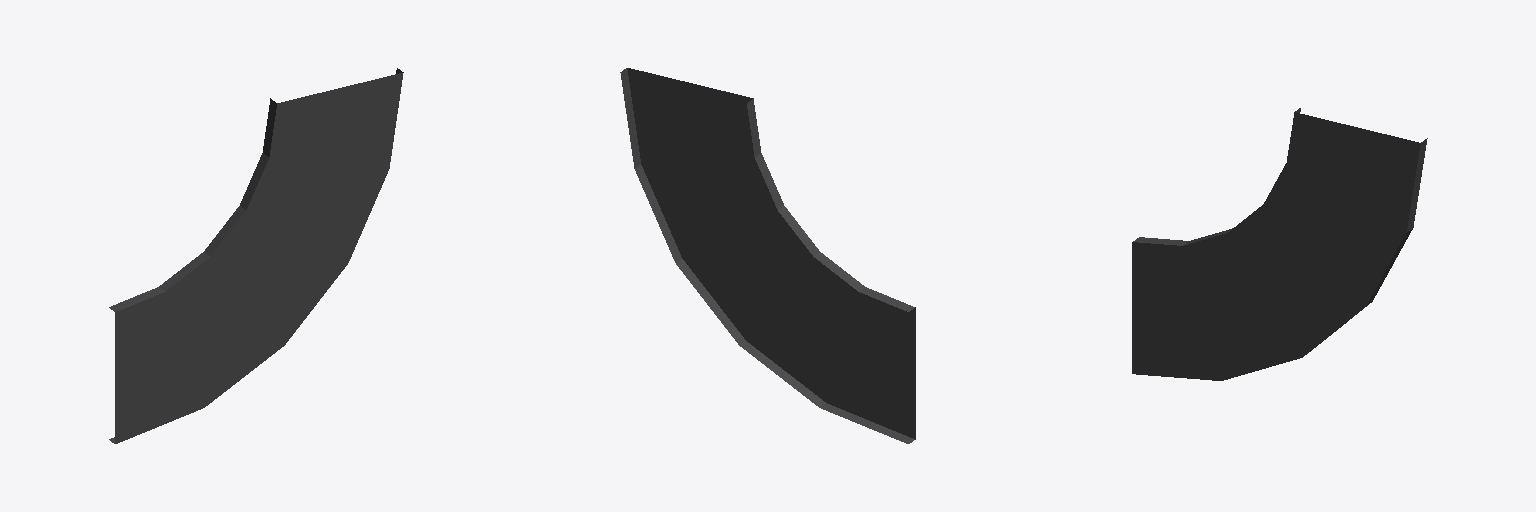
The model's file is roundaboutRight.obj.
The picture shows the model from 3 angles: view 1: azimuth 30°, elevation 25°; view 2: azimuth 150°, elevation 25°; view 3: azimuth 330°, elevation 25°; orthographic projection.
Parts seen in each view (by area): view 1: ring_interaction_geo_Untitled.004; view 2: ring_interaction_geo_Untitled.004; view 3: ring_interaction_geo_Untitled.004.
Boxes of the visible parts, <box> form: ring_interaction_geo_Untitled.004: <box>109,68,403,443</box>; ring_interaction_geo_Untitled.004: <box>620,68,915,443</box>; ring_interaction_geo_Untitled.004: <box>1132,108,1427,380</box>.
Bounding box in the file's own units: 0.107 × 0.107 × 0.0044.